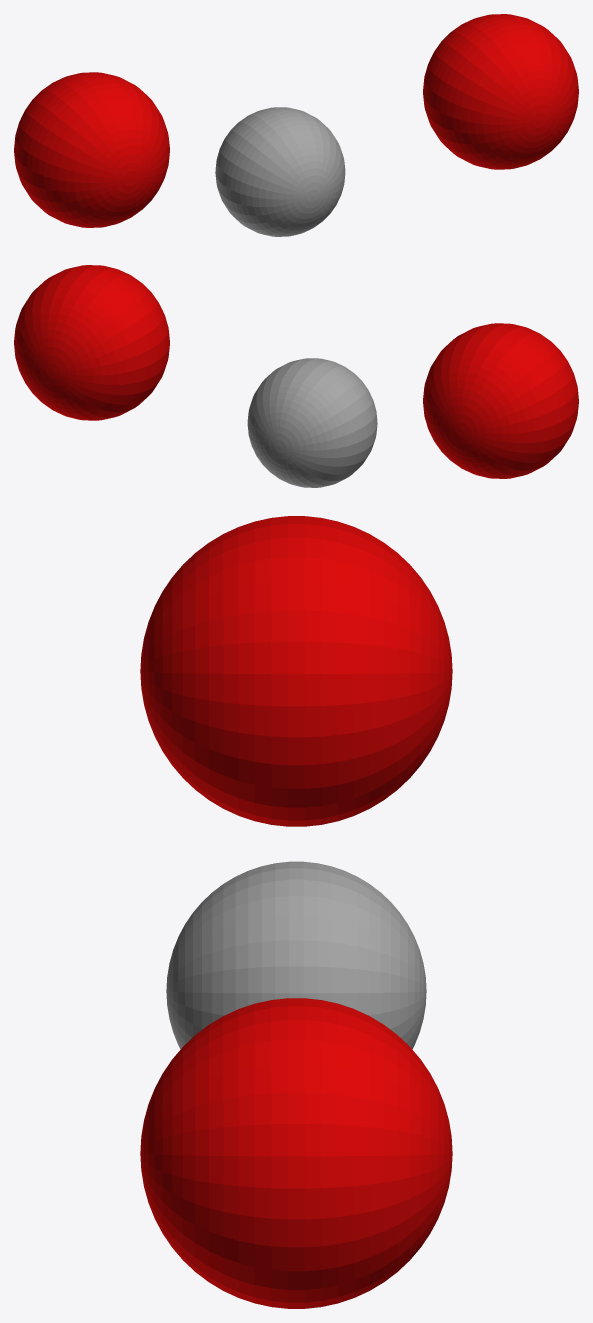
File: Arsenic Trioxide.glb
The picture shows the model from 3 angles, top to bottom: view 1: azimuth 30°, elevation 25°; view 2: azimuth 150°, elevation 25°; view 3: azimuth 270°, elevation 25°; orthographic projection. The views are drawn at different scales.
Parts seen in each view (by area): view 1: world; view 2: world; view 3: world.
Boxes of the visible parts, x1,y1,x2,y2 form: world: (14, 14, 578, 236); world: (14, 265, 578, 487); world: (140, 516, 452, 1308).
Size of the model in its own units: 4.83 by 1.67 by 1.2.
